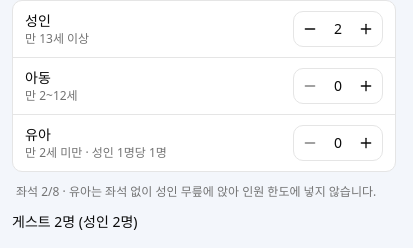
it: guests: infants cannot outnumber adults, and seats stop at 8
Expected: the message reads "게스트 2명 (성인 2명)", [12,212,138,231]
Step 1. Click the button named "유아 늘리기" → (366, 143), box [352,129,380,157]
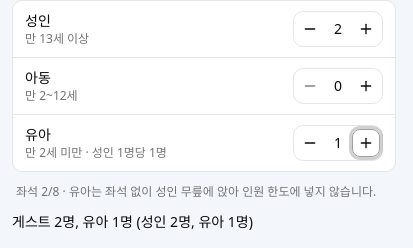
Step 2. Click the button named "유아 늘리기" → (366, 143), box [352,129,380,157]
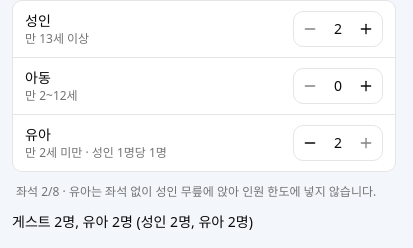
Expected: the button named "성인 줄이기" is disabled, [296,15,324,43]
Expected: the button named "유아 늘리기" is disabled, [352,129,380,157]
Expected: the message reads "게스트 2명, 유아 2명 (성인 2명, 유아 2명)", [12,212,253,231]
Step 3. Click the button named "유아 줄이기" → (310, 143), box [296,129,324,157]
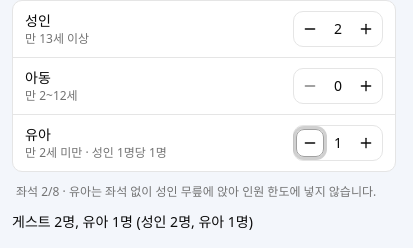
Step 4. Click the button named "성인 줄이기" → (310, 29), box [296,15,324,43]
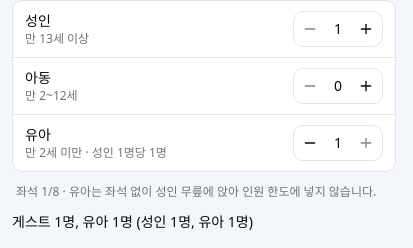
Expected: the number field named "성인" has attribute aria-valuenow="1", [326,19,350,39]
Step 5. Click the number field named "아동" → (338, 86), box [326,76,350,96]
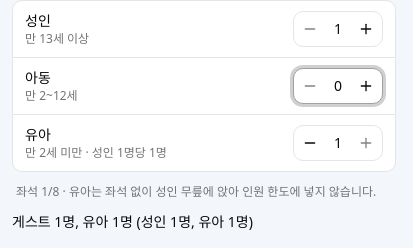
Step 6. Press End
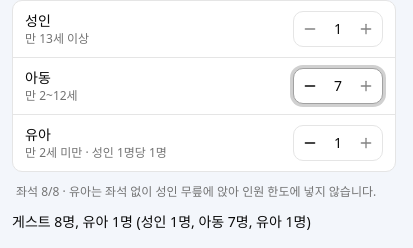
Expected: the button named "성인 늘리기" is disabled, [352,15,380,43]
Expected: the message reads "게스트 8명, 유아 1명 (성인 1명, 아동 7명, 유아 1명)", [12,212,311,231]
